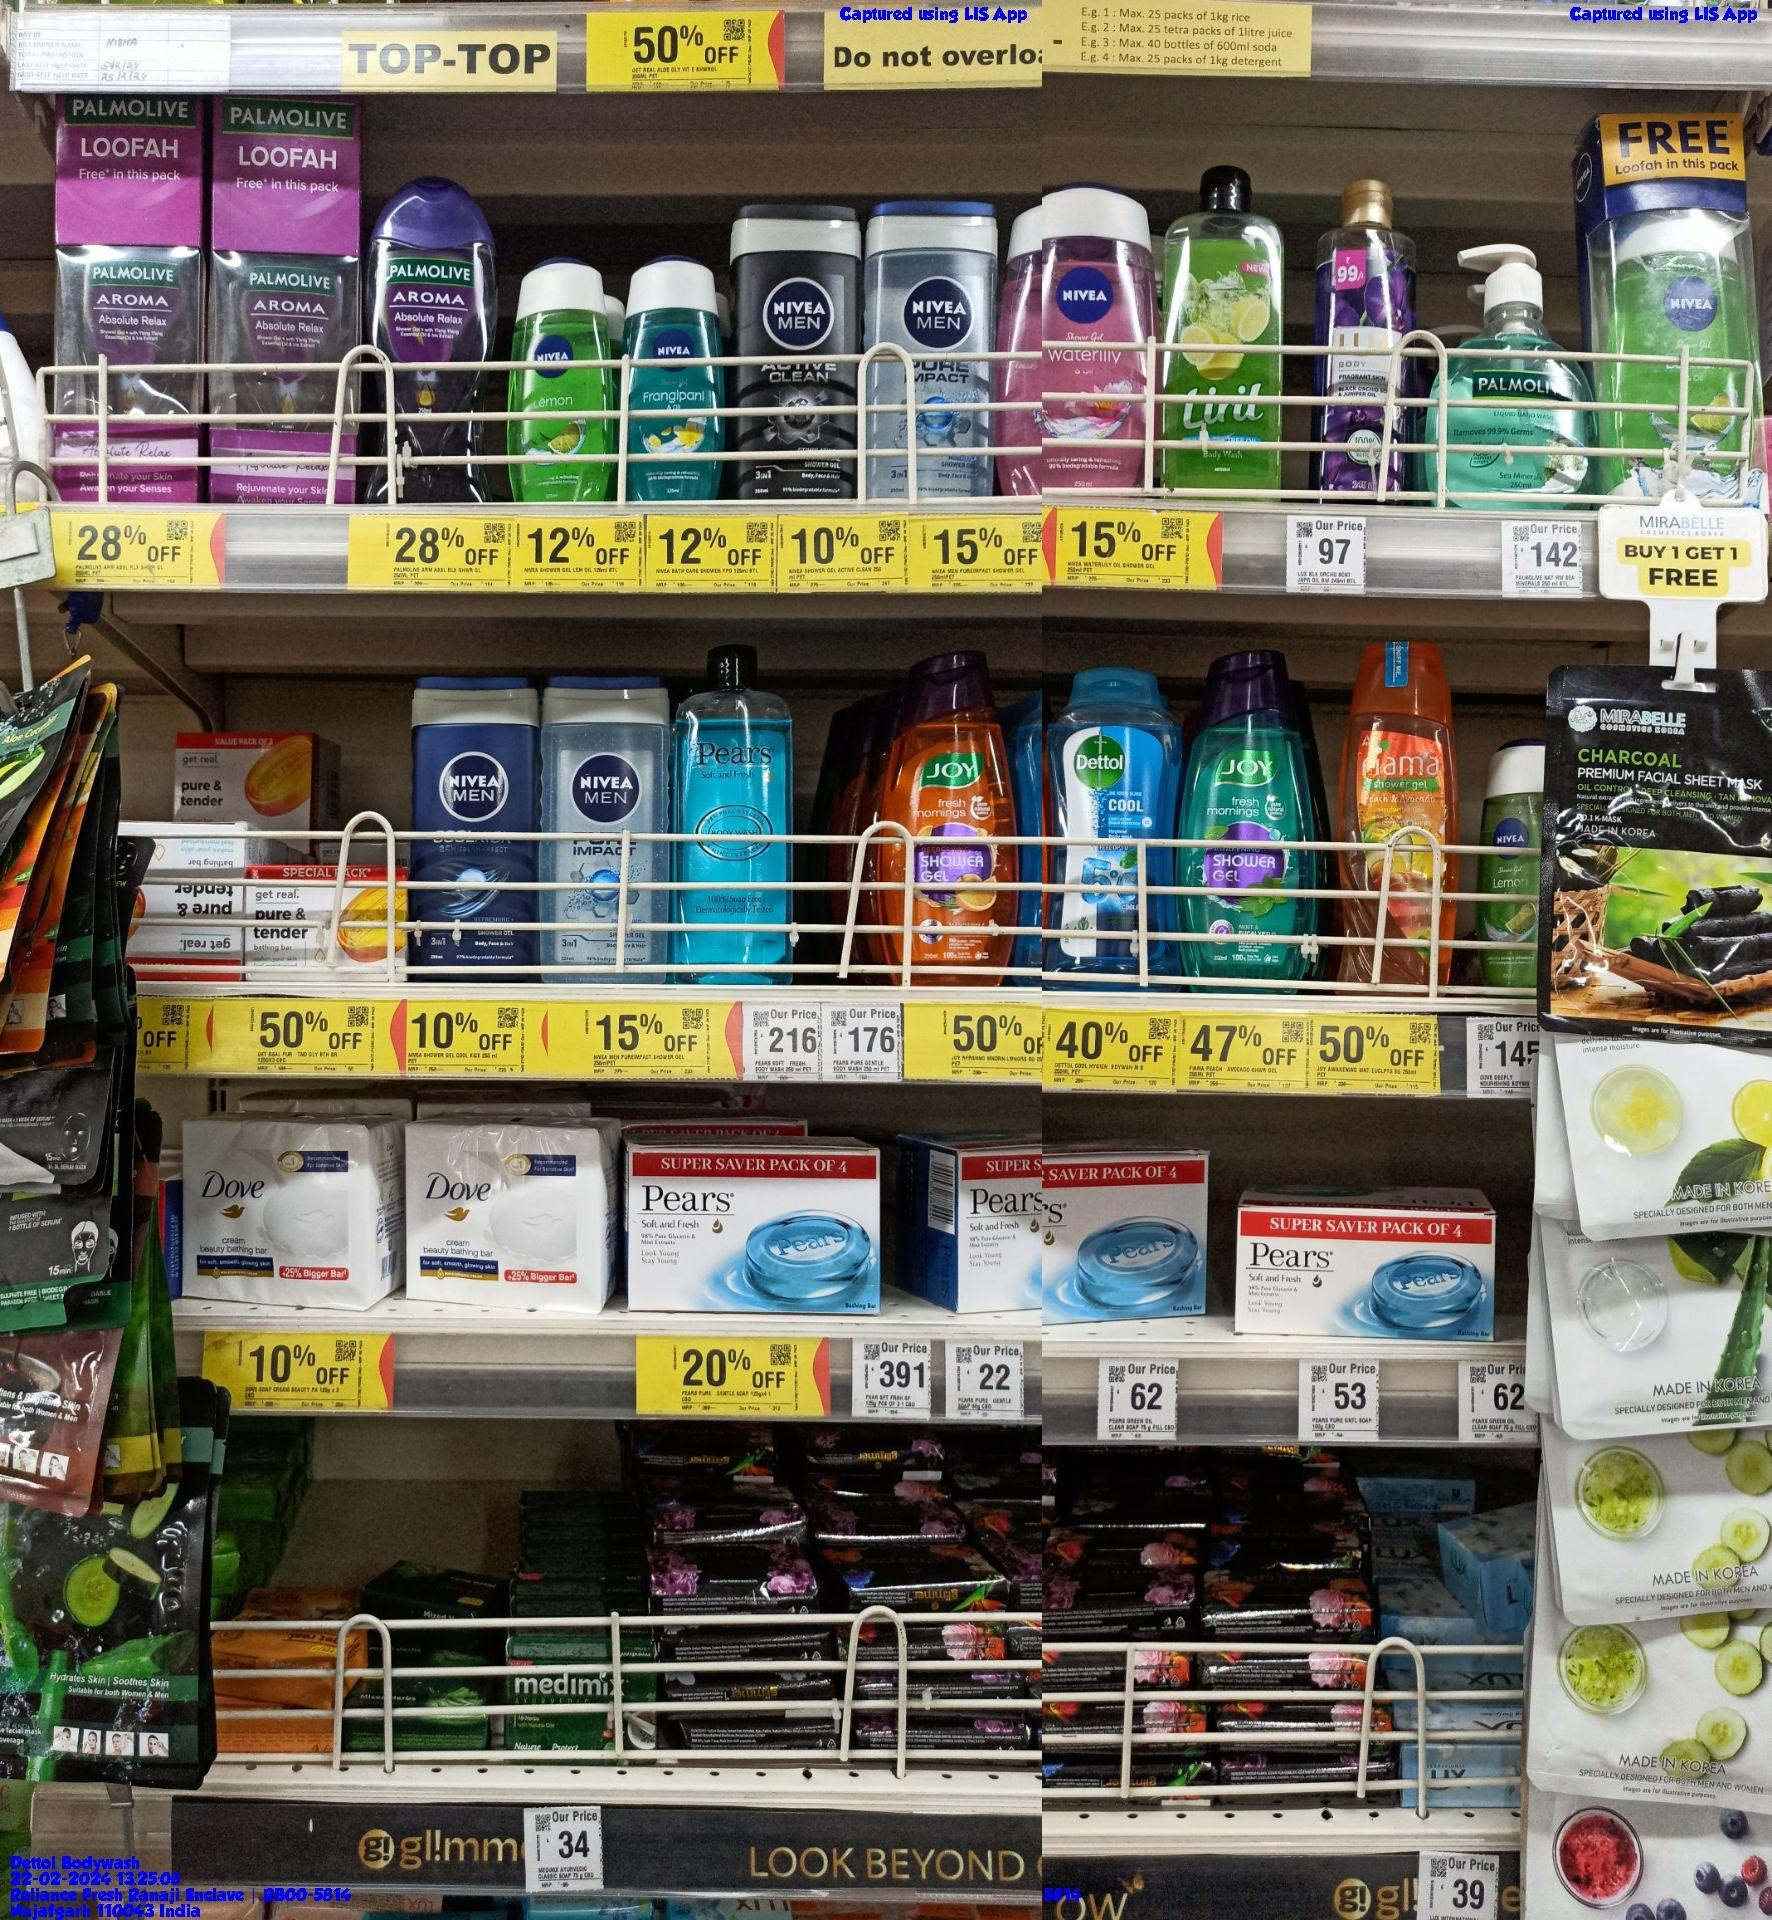Dettol_Bodywash_Cool: (1057, 664, 1182, 985)
Joy_Shower_Gel_Mandarin_and_Lemongrass_250ML: (879, 646, 1020, 973)
Joy_Shower_Gel_Mint_and_Eucalyptus_250ML: (1187, 647, 1312, 988)
Liril_Lime_and_Tea_Tree_Oil_Body_Wash_250ML: (1167, 164, 1284, 500)
Lux_Black_Orchid_Scent_and_Juniper_Oil_Body_Wash_245ML: (1311, 181, 1419, 508)
Nivea_Shower_Gel_Frangipani_and_Oil_250ML: (622, 266, 719, 500)
Nivea_Shower_Gel_Lemon_and_Oil_250ML: (505, 268, 614, 497)
Nivea_Shower_Gel_Waterlily_and_Oil_250ML: (1043, 182, 1160, 490)
Palmolive_Aroma_Relax_250ML: (369, 181, 493, 503)
Pears_Pure_Glycerin_and_Mint_Extracts_Body_Wash_250ML: (677, 641, 796, 987)
